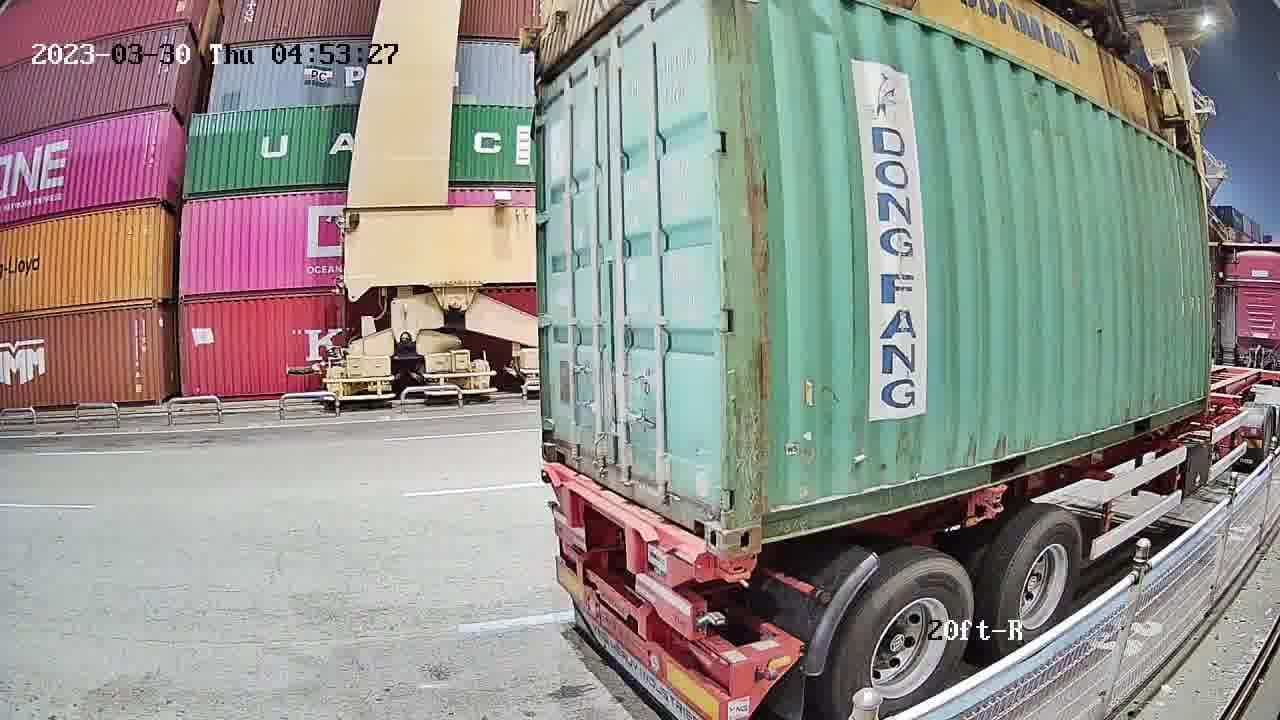Chassis: (544, 465, 757, 588)
Cone: (717, 559, 752, 585)
Hole_L: (726, 493, 790, 557), (541, 424, 573, 468)
Hole_R: (683, 484, 727, 558)
Tire: (840, 559, 973, 713), (1005, 514, 1083, 650)
